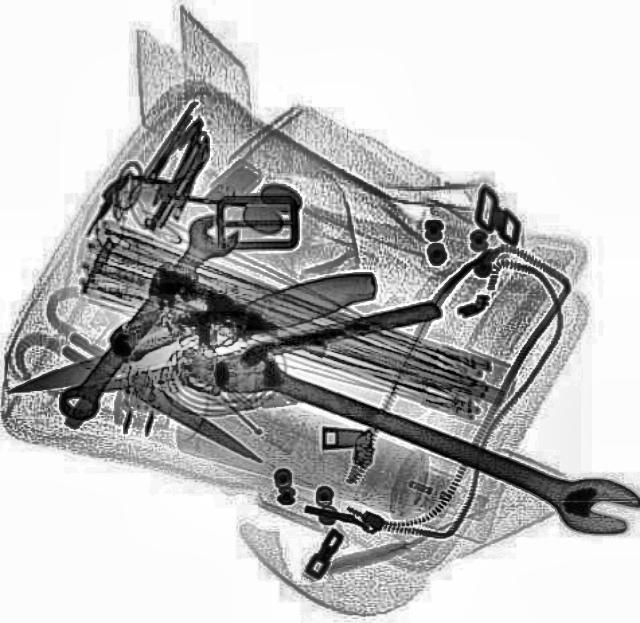Gun: (102, 254, 332, 424)
Knife: (1, 264, 380, 404), (60, 296, 442, 402), (55, 327, 268, 471)
Wrench: (203, 333, 634, 543), (42, 204, 248, 428)
